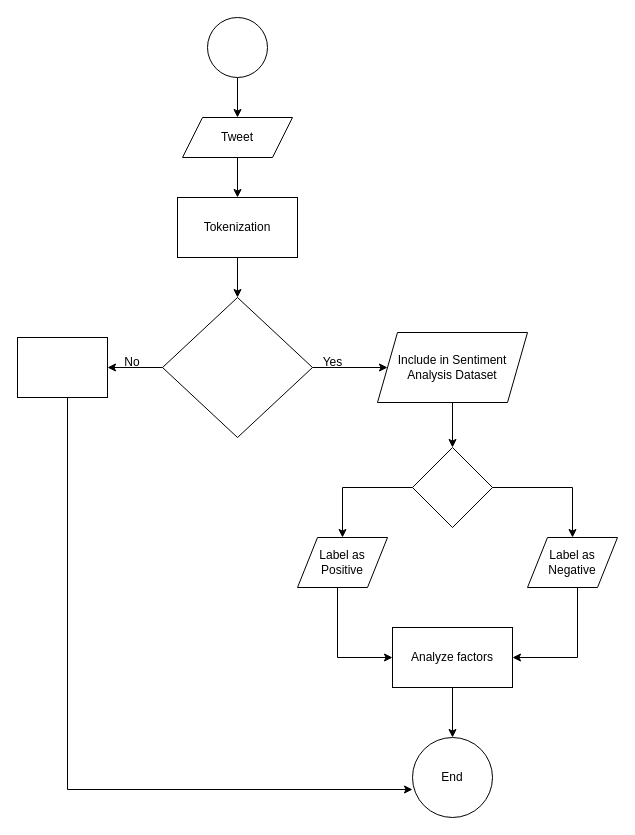
This 635x835 diagram has some shape labels left out. Each missing label, with the centre of its shape:
Discard from dataset: point (62, 367)
Is the tweet Tourism-related?: point (237, 367)
Polarize tweets: point (452, 487)
Start: point (237, 47)
